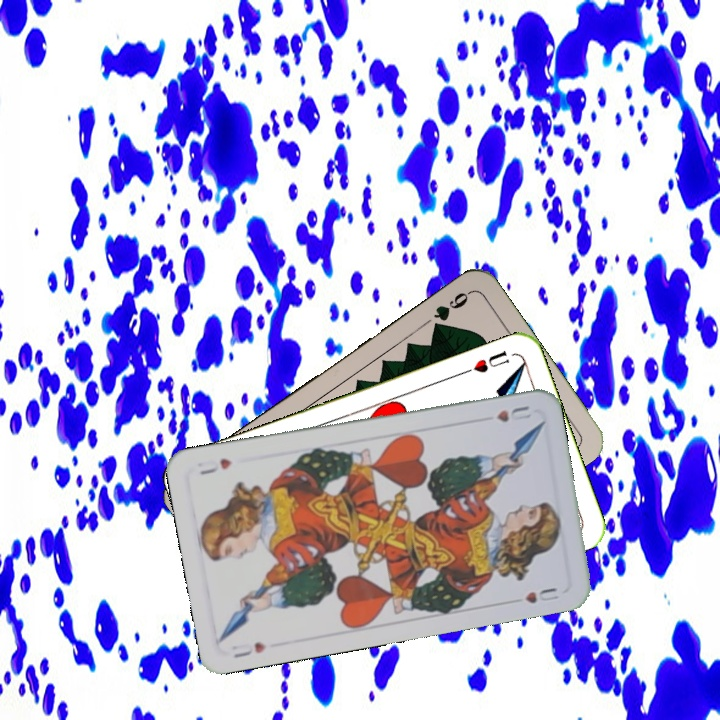G9: (428, 287, 474, 335)
HU: (459, 346, 512, 377), (492, 402, 534, 425), (227, 638, 269, 661)
